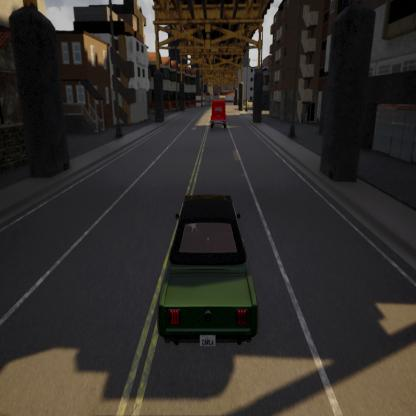Cars: (152, 186, 268, 358), (207, 95, 230, 133)
